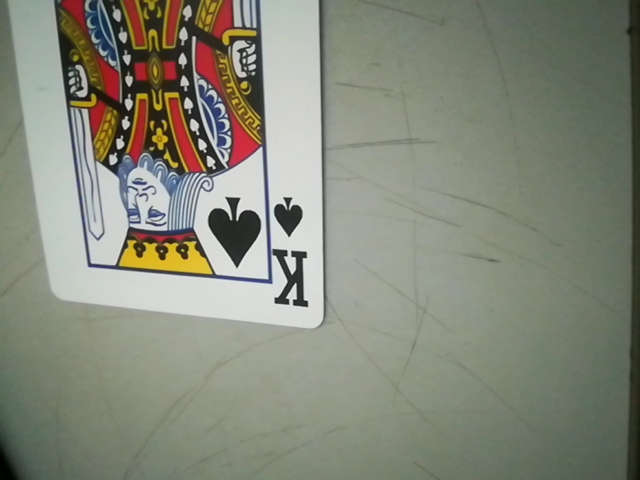ht k: (268, 194, 310, 313)
